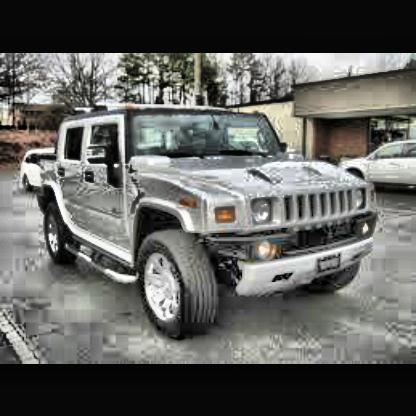HUMMER H2 SUT Crew Cab 2009: (38, 103, 380, 335)
